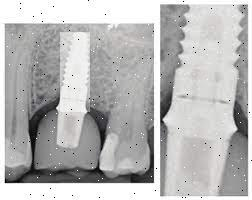BioHorizons: (58, 30, 93, 113)
